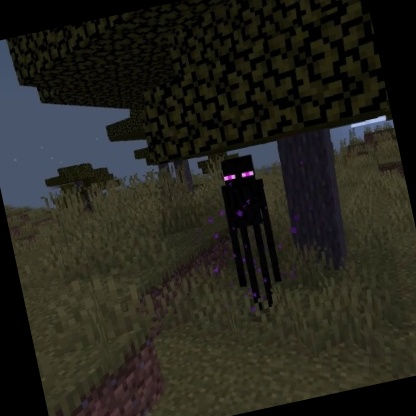enderman: (209, 148, 294, 316)
